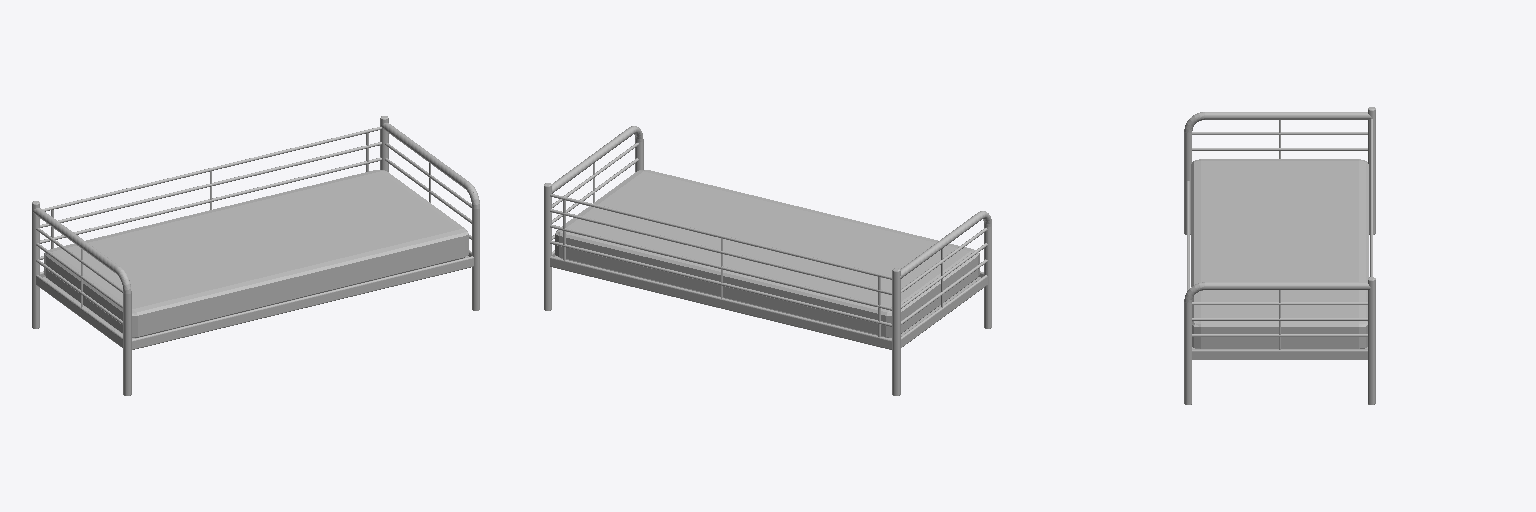
File: SVARTA_Day-bed_frame_silver-colour.obj
3 views of the same model, side by side, from view 1: azimuth 30°, elevation 25°; view 2: azimuth 150°, elevation 25°; view 3: azimuth 270°, elevation 25° (orthographic).
Parts seen in each view (by area): view 1: mattress_Cube.004, tubes-bed_Cylinder.001, bed_sides_Cylinder; view 2: mattress_Cube.004, tubes-bed_Cylinder.001, bed_sides_Cylinder; view 3: mattress_Cube.004, bed_sides_Cylinder, tubes-bed_Cylinder.001.
Part boxes in pixels (x1,y1,x2,y2): mattress_Cube.004: (44,170,468,337); tubes-bed_Cylinder.001: (36,127,473,349); bed_sides_Cylinder: (32,116,479,395); mattress_Cube.004: (555,170,979,337); tubes-bed_Cylinder.001: (550,143,987,349); bed_sides_Cylinder: (544,126,991,395); mattress_Cube.004: (1191,159,1368,348); bed_sides_Cylinder: (1184,107,1375,404); tubes-bed_Cylinder.001: (1187,117,1372,359).
Size of the model in its own units: 2.08 by 0.7 by 0.9699.